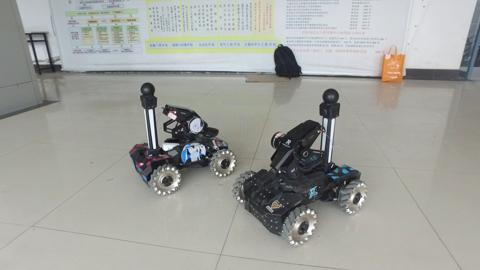chariot: (235, 83, 368, 252), (118, 77, 238, 197)
